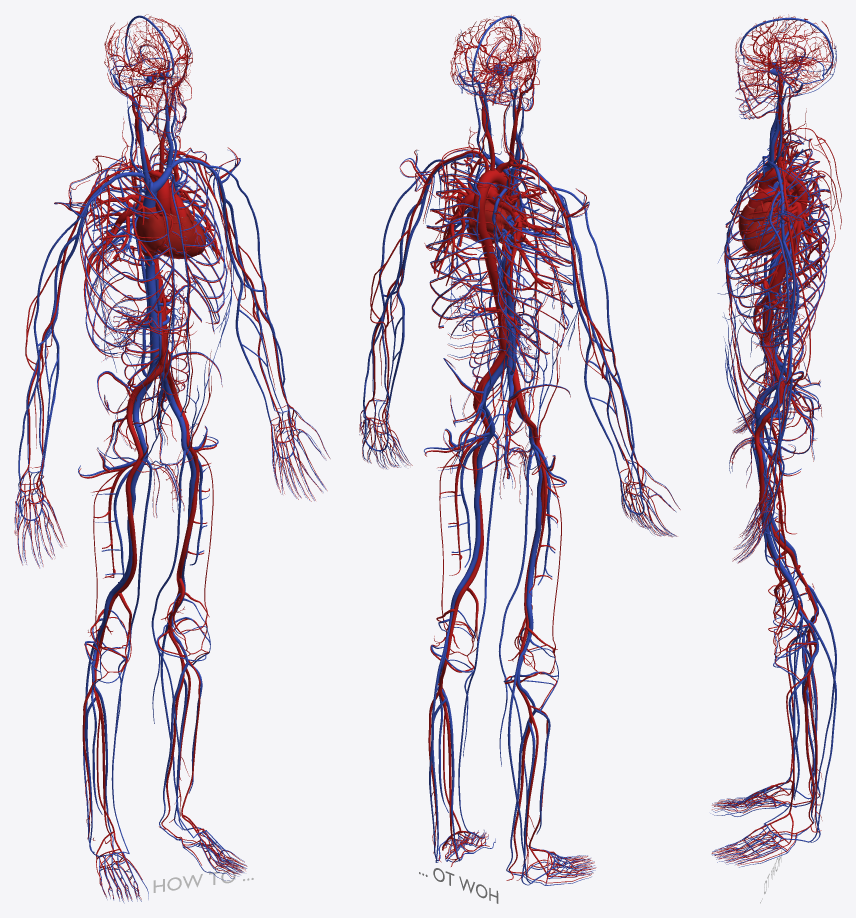
File: cardiovascular.glb
3 views of the same model, side by side, from view 1: azimuth 30°, elevation 25°; view 2: azimuth 150°, elevation 25°; view 3: azimuth 270°, elevation 25° (orthographic). The views are drawn at different scales.
Parts seen in each view (by area): view 1: Left coronary artery, Left atrium; view 2: Left coronary artery, Left atrium; view 3: Left coronary artery, Left atrium.
Part boxes in pixels (left/top/right/bottom): Left coronary artery: left=14, top=14, right=330, bottom=903; Left atrium: left=134, top=72, right=205, bottom=258; Left coronary artery: left=359, top=14, right=680, bottom=885; Left atrium: left=466, top=59, right=526, bottom=249; Left coronary artery: left=710, top=14, right=841, bottom=867; Left atrium: left=738, top=61, right=794, bottom=255.
Bounding box in the file's own units: 0.664 × 1.75 × 0.2489.
Materials: 3 (3 with a texture image).
